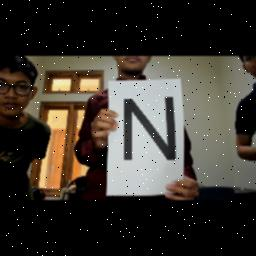n: (114, 95, 184, 161)
